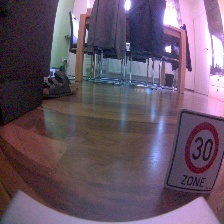dreisiger_zone: (164, 108, 224, 192)
